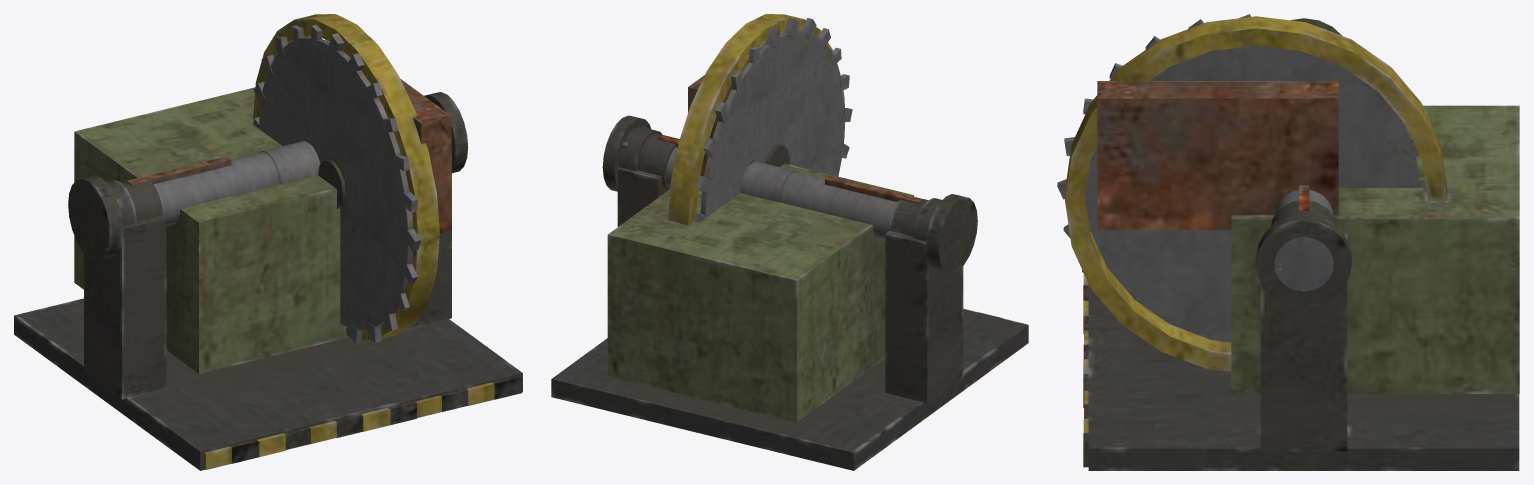
The model's file is feMechSaw.glb.
The picture shows the model from 3 angles, left to right: view 1: azimuth 30°, elevation 25°; view 2: azimuth 150°, elevation 25°; view 3: azimuth 270°, elevation 25°; orthographic projection. The views are drawn at different scales.
Parts seen in each view (by area): view 1: feMechSaw_Base, FeSpin_x3_Blade, FeSpin_DriveShaft; view 2: feMechSaw_Base, FeSpin_x3_Blade, FeSpin_DriveShaft; view 3: feMechSaw_Base, FeSpin_x3_Blade, FeSpin_DriveShaft.
Part boxes in pixels (x1,y1,x2,y2): feMechSaw_Base: (14,14,522,470); FeSpin_x3_Blade: (253,24,421,343); FeSpin_DriveShaft: (68,92,468,260); feMechSaw_Base: (551,14,1028,470); FeSpin_x3_Blade: (695,18,852,222); FeSpin_DriveShaft: (602,115,977,273); feMechSaw_Base: (1065,16,1519,470); FeSpin_x3_Blade: (1057,14,1425,342); FeSpin_DriveShaft: (1256,18,1351,307).
Bounding box in the file's own units: 1 × 0.9006 × 0.9684.
Materials: 1 (1 with a texture image).
